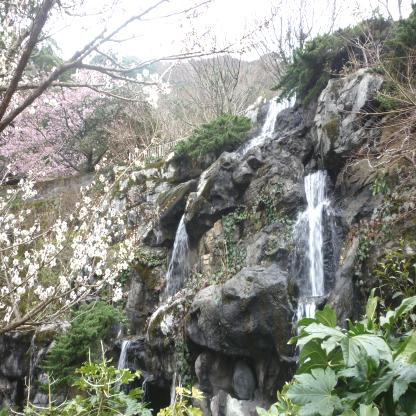Ume: (0, 0, 280, 337)
